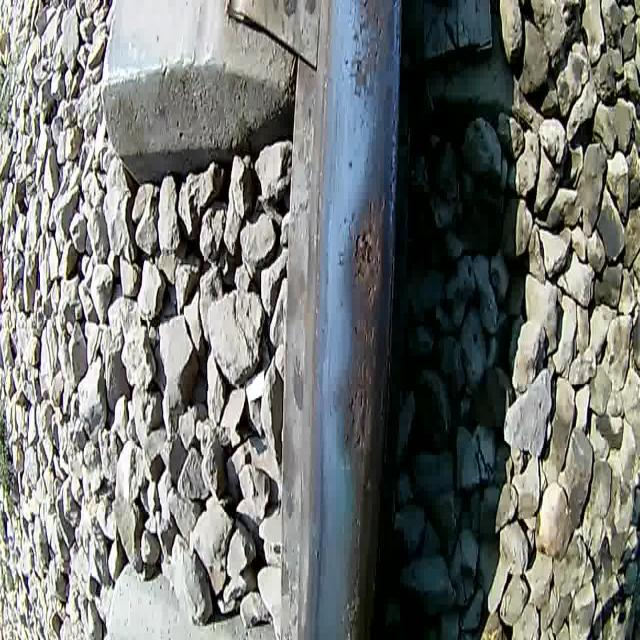Cracks: (341, 551, 364, 640)
Spallings: (351, 220, 382, 303), (341, 381, 372, 456)
Squats: (330, 325, 383, 467), (337, 0, 400, 106), (341, 184, 390, 313)
